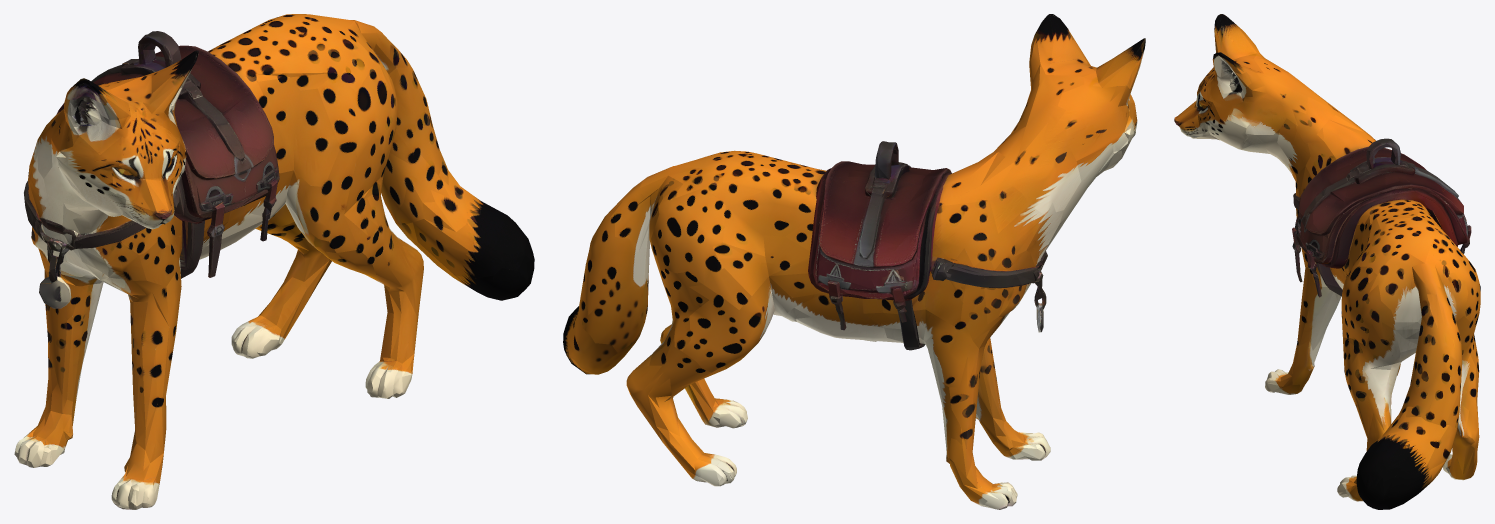
File: pet_lynx.glb
3 views of the same model, side by side, from view 1: azimuth 30°, elevation 25°; view 2: azimuth 150°, elevation 25°; view 3: azimuth 270°, elevation 25° (orthographic). The views are drawn at different scales.
Size of the model in its own units: 1.9 by 1.54 by 1.24.
Materials: 1 (1 with a texture image).
